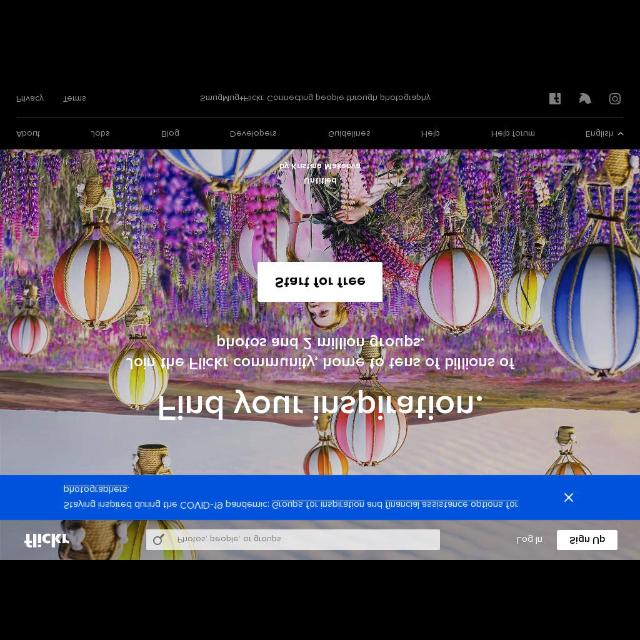backgroundimage: (1, 150, 639, 560)
button: (147, 530, 173, 548)
icon: (549, 92, 563, 106), (152, 532, 166, 544), (578, 94, 592, 105), (608, 92, 620, 104), (564, 491, 576, 503), (617, 130, 625, 136)
image: (23, 532, 68, 548)
input: (172, 528, 440, 550)
multitab: (1, 118, 639, 150)
spinner: (584, 126, 626, 140)
text: (126, 333, 518, 369), (63, 484, 520, 511), (156, 392, 484, 422), (198, 91, 432, 103), (177, 534, 281, 544), (275, 277, 365, 287), (230, 128, 280, 138), (330, 129, 372, 139), (568, 535, 606, 545), (489, 129, 536, 137), (516, 534, 544, 544), (584, 130, 614, 138), (62, 95, 86, 104), (16, 130, 42, 138), (161, 128, 179, 138), (15, 96, 45, 102), (419, 130, 441, 138), (92, 130, 110, 138)
textbutton: (257, 262, 381, 302), (558, 530, 618, 550)
toolbar: (1, 520, 639, 560)
